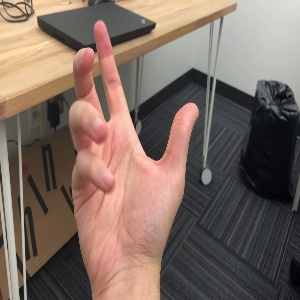hand: (69, 19, 199, 263)
